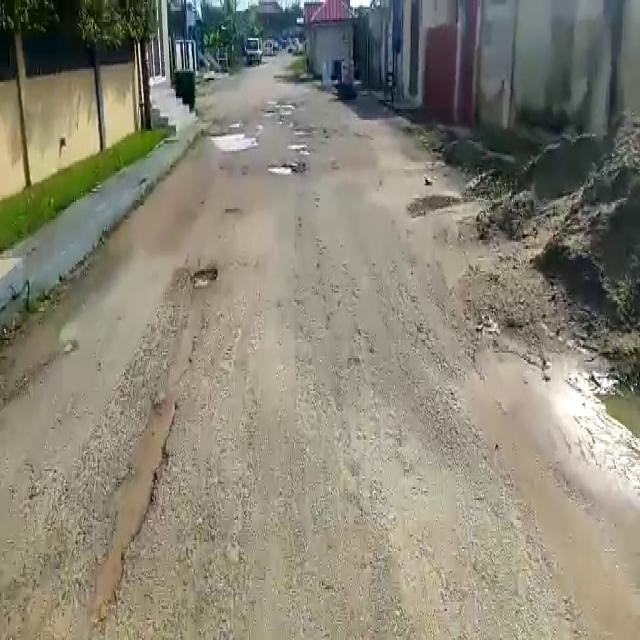pothole: (205, 130, 260, 153), (266, 161, 302, 176), (193, 267, 218, 287)
